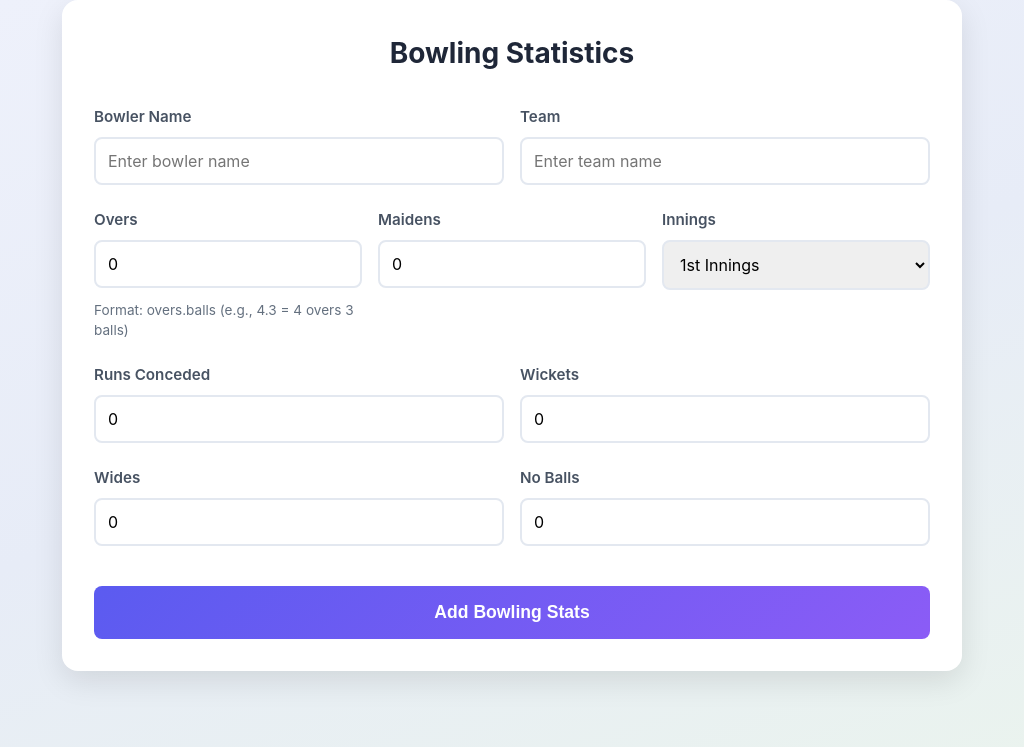
Test: BowlingStats calculations › shows bowling average when wickets > 0
The width and height of the screenshot is (1024, 747).
Replace the text in the number field labelled "Overs" with "5". click: (228, 264)
box: [94,240,362,288]
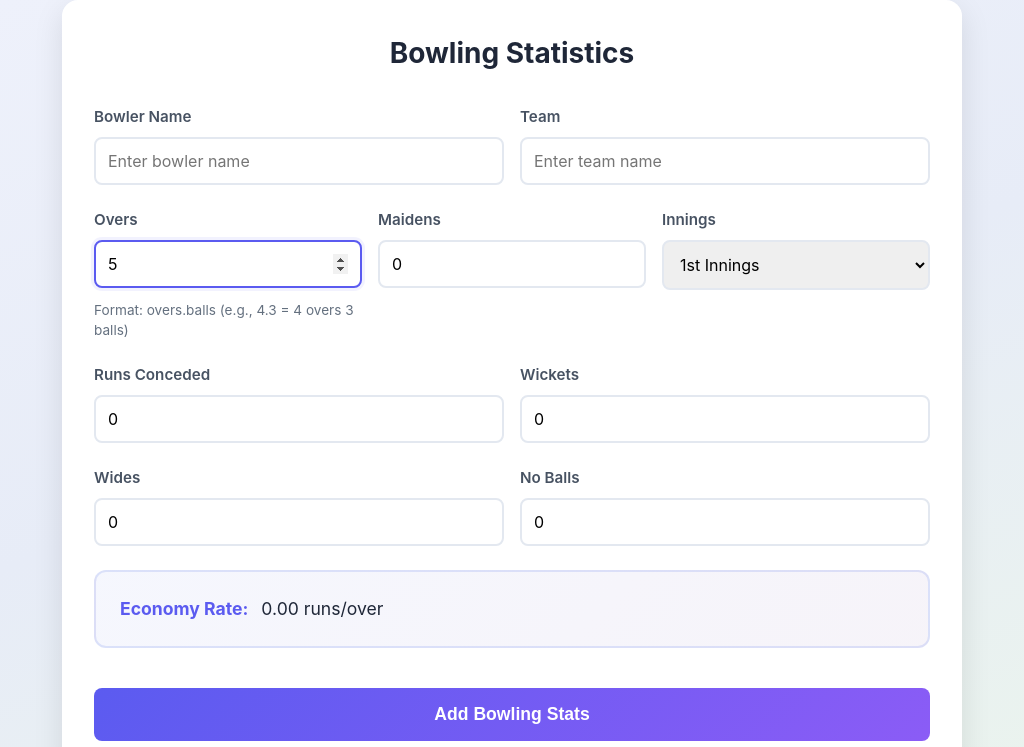
Replace the text in the number field labelled "Runs Conceded" with "20". click: (299, 419)
box: [94,395,504,443]
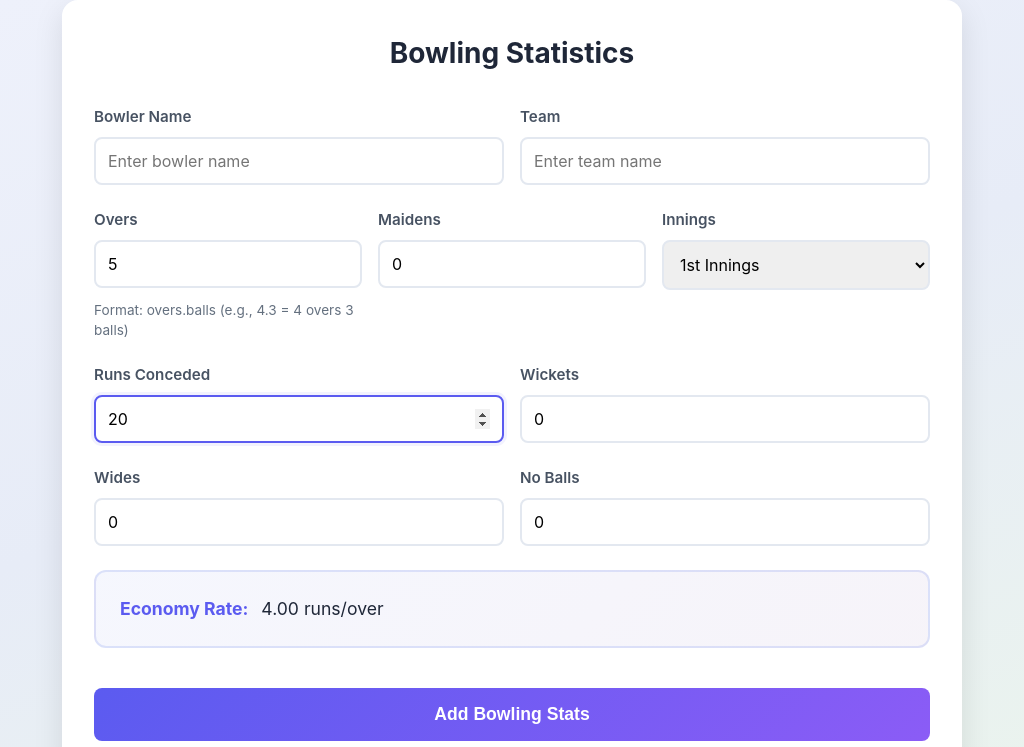
Replace the text in the number field labelled "Wickets" with "4". click: (725, 419)
box: [520,395,930,443]
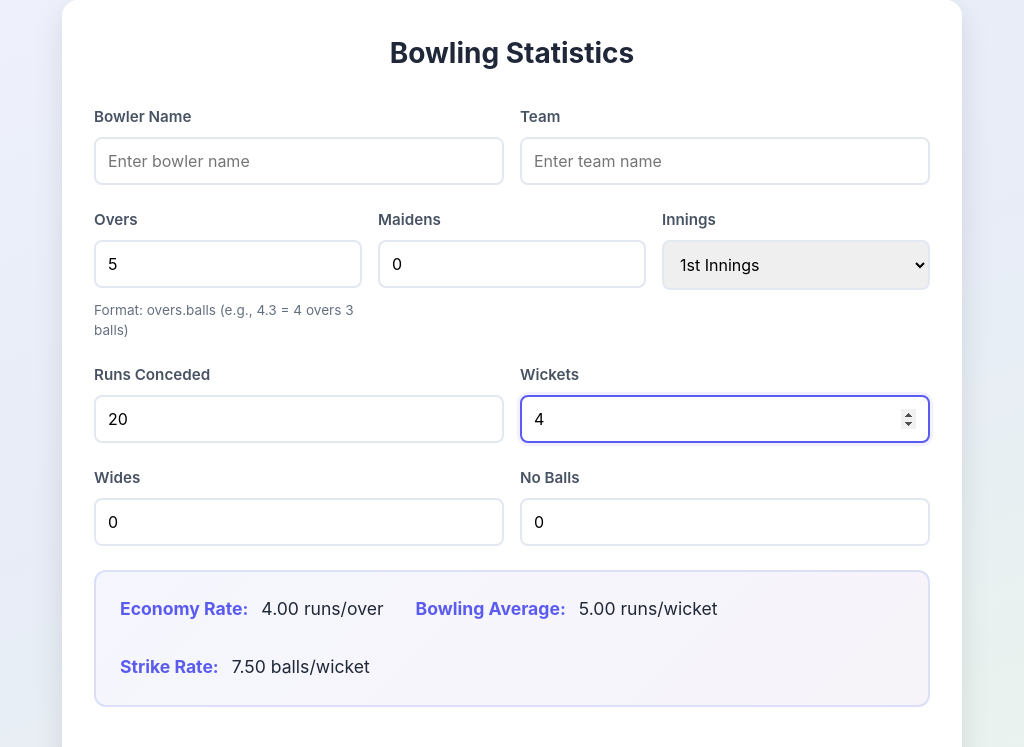
Expected: the text "Bowling Average:" is shown, [416,598,566,619]
Expected: the text "Bowling Average: 5.00 runs/wicket" is shown, [416,596,718,622]
